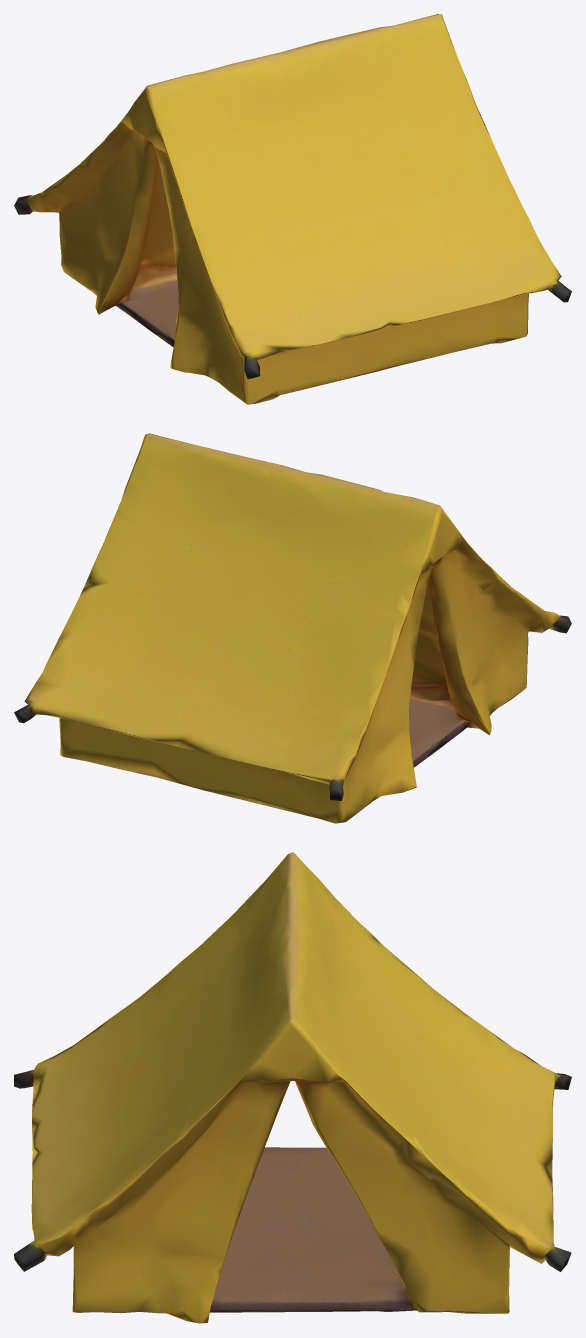
The model's file is tent.glb.
3 views of the same model, one above another, from view 1: azimuth 30°, elevation 25°; view 2: azimuth 150°, elevation 25°; view 3: azimuth 270°, elevation 25° (orthographic). The views are drawn at different scales.
Visible parts, largest first — view 1: tripo_node_0e335623-5cbd-4e56-bb8a-f9f5989d4432; view 2: tripo_node_0e335623-5cbd-4e56-bb8a-f9f5989d4432; view 3: tripo_node_0e335623-5cbd-4e56-bb8a-f9f5989d4432.
Boxes of the visible parts, box(x1,y1,x2,y2) form: tripo_node_0e335623-5cbd-4e56-bb8a-f9f5989d4432: box(14, 14, 571, 404); tripo_node_0e335623-5cbd-4e56-bb8a-f9f5989d4432: box(14, 433, 571, 823); tripo_node_0e335623-5cbd-4e56-bb8a-f9f5989d4432: box(14, 852, 571, 1323).
Size of the model in its own units: 0.8017 by 0.592 by 1.
1 material, 1 textured.
